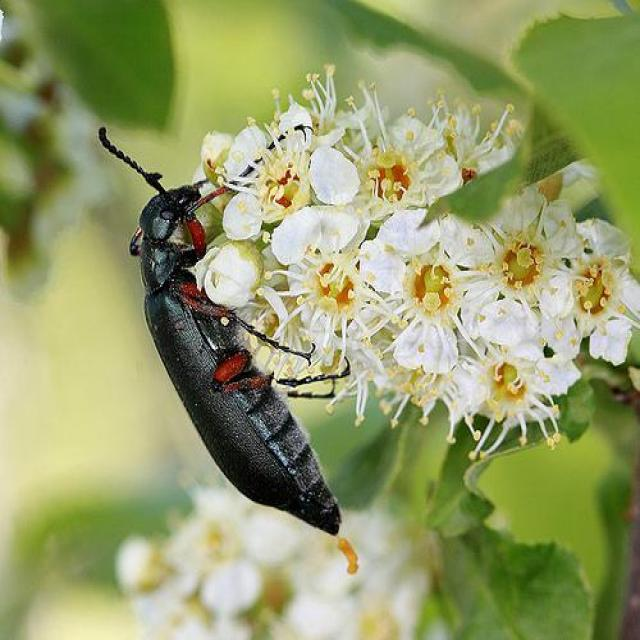BlisterBeetle-Adult-: (86, 109, 358, 555)
